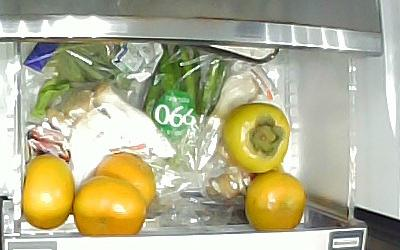persimmon: (226, 102, 292, 174), (74, 175, 146, 237), (22, 153, 74, 229), (243, 172, 307, 233), (95, 152, 156, 206)
